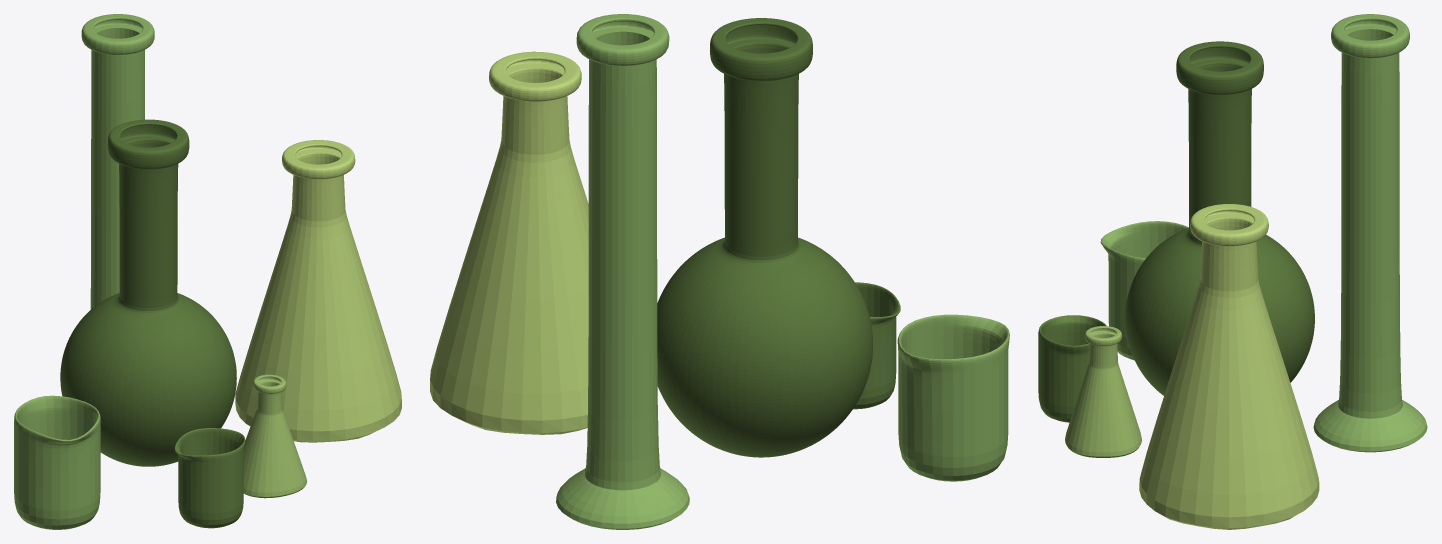
File: Beaker_Group5.glb
3 renders of one model, left to right at view 1: azimuth 30°, elevation 25°; view 2: azimuth 150°, elevation 25°; view 3: azimuth 270°, elevation 25°, orthographic. The views are drawn at different scales.
Visible parts, largest first — view 1: pSphere1, pCylinder6, pCylinder5, pCylinder3, pCylinder8, pCylinder10; view 2: pSphere1, pCylinder6, pCylinder5, pCylinder3, pCylinder8; view 3: pCylinder6, pCylinder5, pSphere1, pCylinder10, pCylinder8, pCylinder3.
Boxes of the visible parts, x1,y1,x2,y2 form: pSphere1: [60, 119, 236, 466]; pCylinder6: [235, 140, 401, 442]; pCylinder5: [81, 14, 154, 309]; pCylinder3: [14, 395, 100, 529]; pCylinder8: [174, 428, 245, 528]; pCylinder10: [243, 374, 307, 498]; pSphere1: [657, 18, 872, 457]; pCylinder6: [430, 51, 588, 434]; pCylinder5: [556, 14, 689, 529]; pCylinder3: [897, 314, 1009, 481]; pCylinder8: [853, 282, 900, 409]; pCylinder6: [1139, 204, 1319, 529]; pCylinder5: [1313, 14, 1427, 452]; pSphere1: [1125, 41, 1314, 395]; pCylinder10: [1065, 326, 1141, 457]; pCylinder8: [1038, 315, 1106, 422]; pCylinder3: [1100, 221, 1188, 360].
Bounding box in the file's own units: 1.91 × 1.71 × 1.47.
